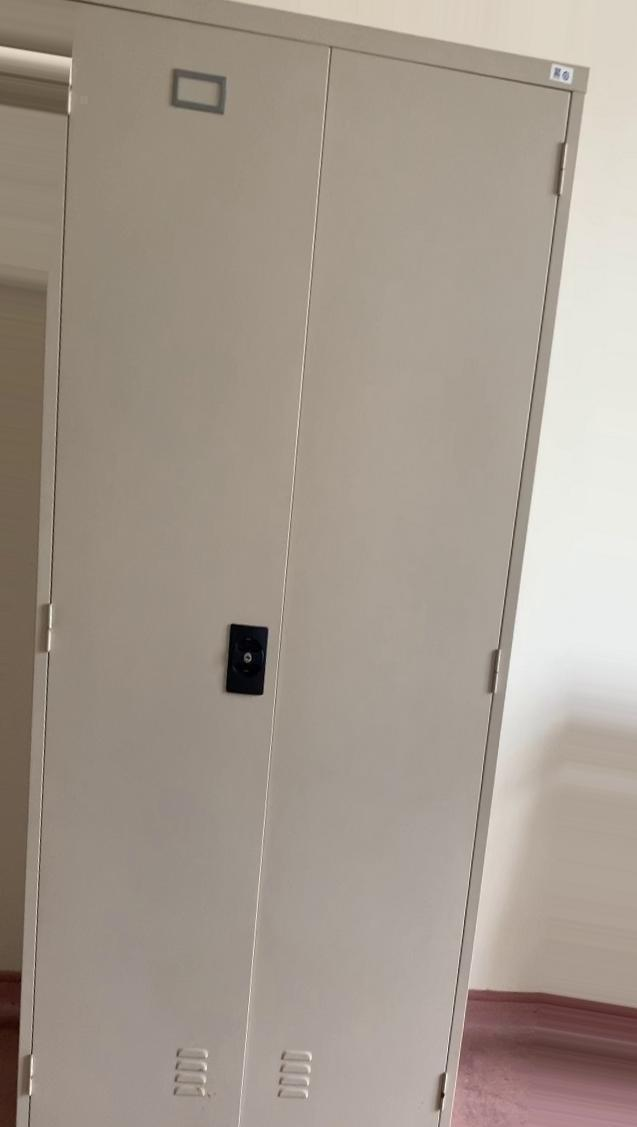Armario: (1, 7, 586, 1100)
